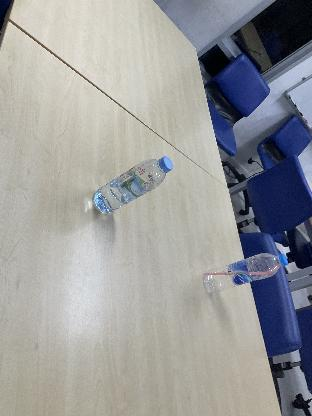Plastic Bottle: (92, 156, 174, 216), (203, 252, 287, 298)
